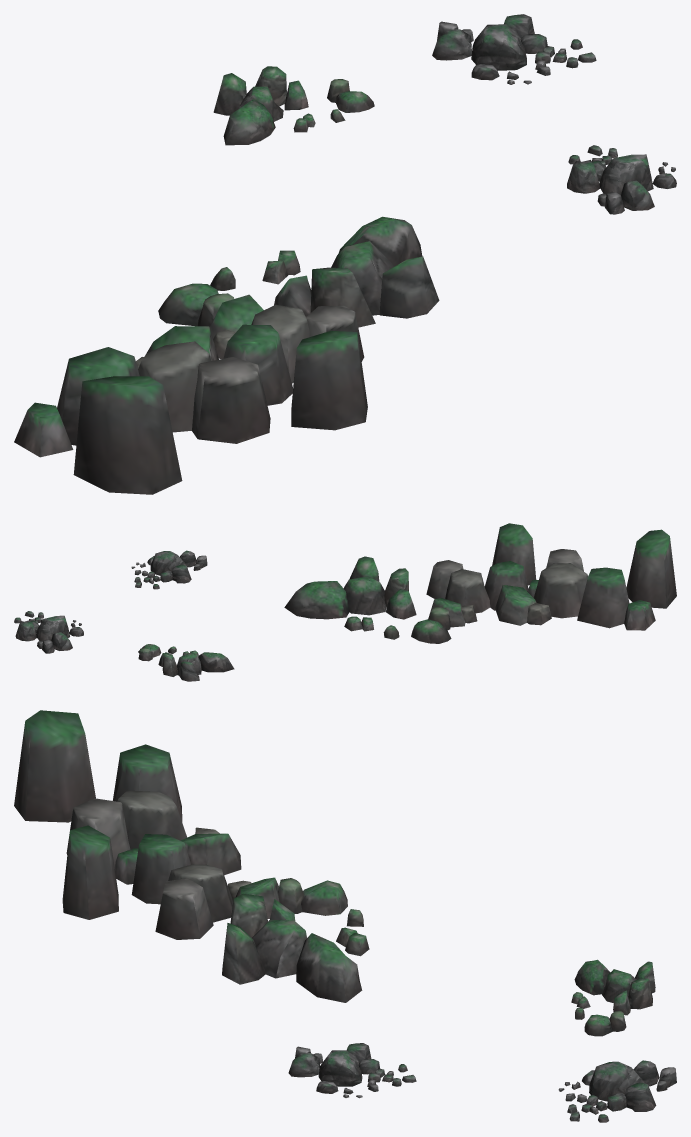
The model's file is Area_10_33.fbx.
3 renders of one model, top to bottom at view 1: azimuth 30°, elevation 25°; view 2: azimuth 150°, elevation 25°; view 3: azimuth 270°, elevation 25°, orthographic. The views are drawn at different scales.
Parts seen in each view (by area): view 1: Area_10_33; view 2: Area_10_33; view 3: Area_10_33.
Boxes of the visible parts, box(x1,y1,x2,y2) form: Area_10_33: box(14, 14, 676, 494); Area_10_33: box(14, 523, 676, 681); Area_10_33: box(14, 710, 676, 1122).
Bounding box in the file's own units: 6075 × 780 × 4982.
